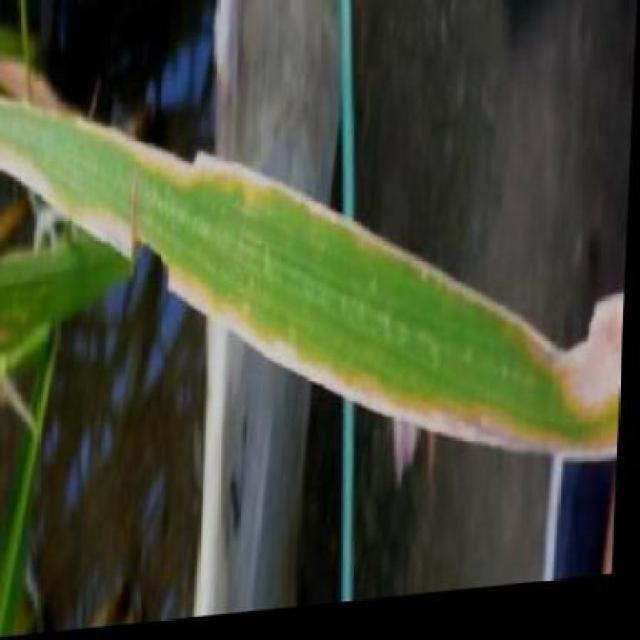Brown_Spot: (157, 194, 605, 481), (1, 122, 348, 327), (0, 5, 94, 174)
